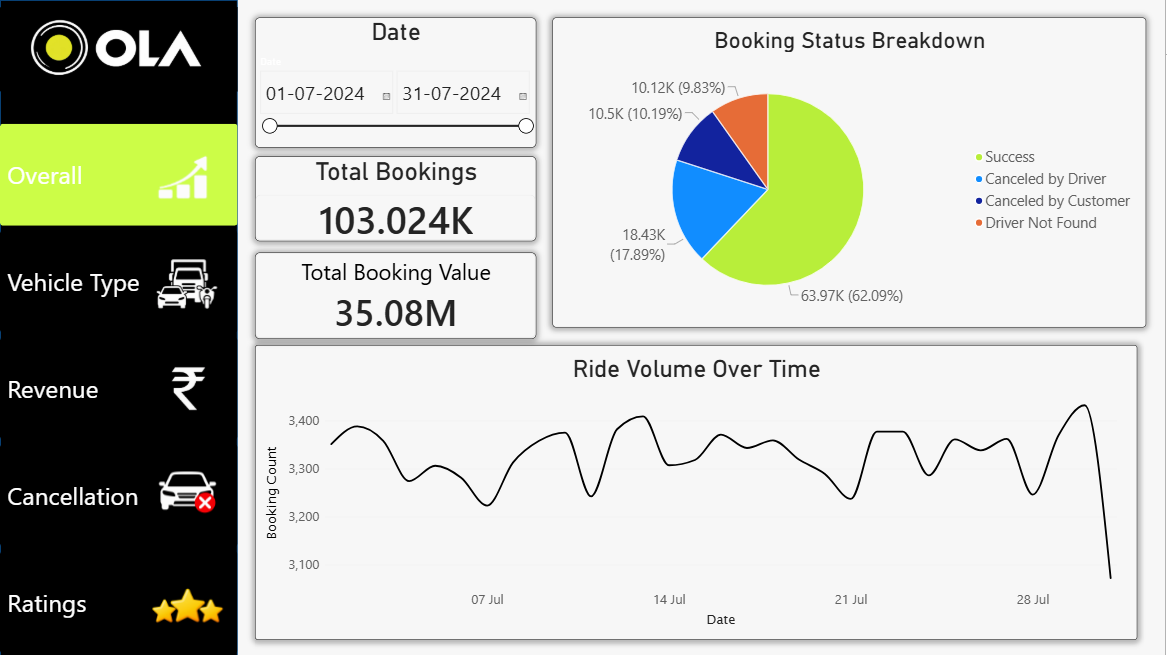

The page's visual inventory and layout, read from the dashboard file:
{"tool":"powerbi","page":{"name":"Overall","canvas":[1920,1080],"ordinal":0},"visuals":[{"type":"shape","box":[0,0,391.1,1080.6],"z":0},{"type":"image","box":[0,0,391.1,162.6],"z":1000},{"type":"pageNavigator","box":[0,203.8,391.1,876.8],"z":2000},{"type":"actionButton","box":[242.9,242.9,115.3,96.7],"z":3000},{"type":"actionButton","box":[195.5,378.7,224.4,162.6],"z":4000},{"type":"actionButton","box":[228.5,557.8,162.6,162.6],"z":5000},{"type":"actionButton","box":[197.6,720.4,222.3,179.1],"z":6000},{"type":"actionButton","box":[197.6,918,222.3,162.6],"z":7000},{"type":"lineChart","title":"Ride Volume Over Time","fields":{"Category":["Bookings-100000-Rows xlsx - July.Date"],"Y":["CountNonNull(Bookings-100000-Rows xlsx - July.Booking_ID)"]},"box":[419.9,568.1,1453.2,485.8],"z":8000},{"type":"pieChart","title":"Booking Status Breakdown","fields":{"Category":["Bookings-100000-Rows xlsx - July.Booking_Status"],"Y":["CountNonNull(Bookings-100000-Rows xlsx - July.Booking_Status)"]},"box":[909.8,28.8,977.7,510.5],"z":9000},{"type":"slicer","title":"Date","fields":{"Values":["Bookings-100000-Rows xlsx - July.Date"]},"box":[419.9,28.8,463.1,214.1],"z":10000},{"type":"cardVisual","title":"Total Bookings","fields":{"Data":["CountNonNull(Bookings-100000-Rows xlsx - July.Booking_ID)"]},"box":[419.9,257.3,463.1,140],"z":11000},{"type":"cardVisual","fields":{"Data":["Sum(Bookings-100000-Rows xlsx - July.Booking_Value)"]},"box":[419.9,415.8,463.1,142],"z":12000}]}

Visuals, with their boxes in screenshot pixels (x1, y1, x2, y2), scaled from the page's 1920x1080 canvas onto the 1167x655 screenshot:
shape: [x1=0, y1=0, x2=238, y2=654]
image: [x1=0, y1=0, x2=238, y2=99]
pageNavigator: [x1=0, y1=124, x2=238, y2=654]
actionButton: [x1=148, y1=147, x2=218, y2=206]
actionButton: [x1=119, y1=230, x2=255, y2=328]
actionButton: [x1=139, y1=338, x2=238, y2=437]
actionButton: [x1=120, y1=437, x2=255, y2=546]
actionButton: [x1=120, y1=557, x2=255, y2=654]
"Ride Volume Over Time" lineChart: [x1=255, y1=345, x2=1138, y2=639]
"Booking Status Breakdown" pieChart: [x1=553, y1=17, x2=1147, y2=327]
"Date" slicer: [x1=255, y1=17, x2=537, y2=147]
"Total Bookings" cardVisual: [x1=255, y1=156, x2=537, y2=241]
cardVisual - Sum(Bookings-100000-Rows xlsx - July.Booking_Value): [x1=255, y1=252, x2=537, y2=338]
